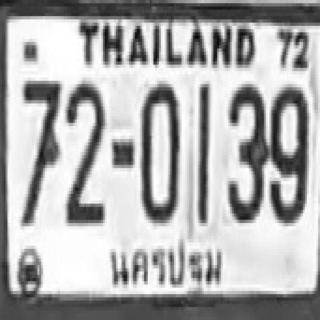N00: (140, 81, 178, 220)
N01: (196, 81, 208, 220)
N02: (64, 78, 103, 223)
N03: (226, 79, 268, 218)
N07: (19, 78, 60, 223)
N09: (268, 82, 307, 218)
P28: (105, 236, 233, 297)
